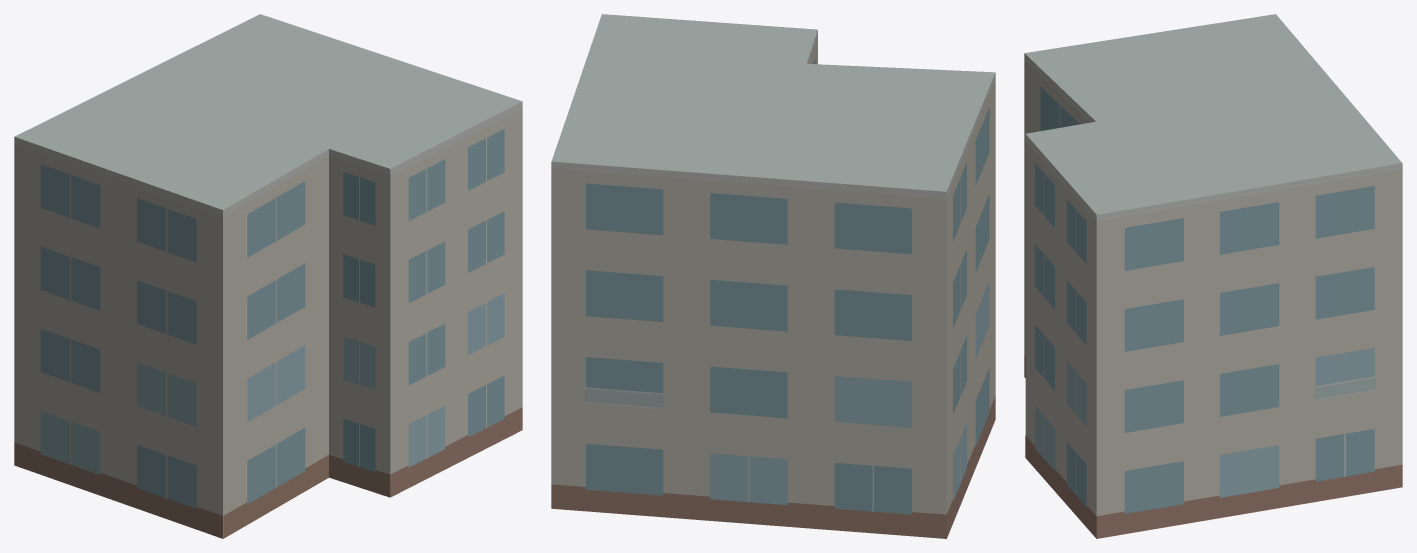
Rendered from survey-upis-32854608.glb.
3 views of the same model, side by side, from view 1: azimuth 30°, elevation 25°; view 2: azimuth 150°, elevation 25°; view 3: azimuth 270°, elevation 25° (orthographic). The views are drawn at different scales.
Parts seen in each view (by area): view 1: survey-upis-32854608.tmp; view 2: survey-upis-32854608.tmp; view 3: survey-upis-32854608.tmp.
Boxes of the visible parts, x1,y1,x2,y2 form: survey-upis-32854608.tmp: (14,14,522,538); survey-upis-32854608.tmp: (551,14,995,538); survey-upis-32854608.tmp: (1024,14,1402,538).
Bounding box in the file's own units: 15.8 × 11.88 × 12.58.
